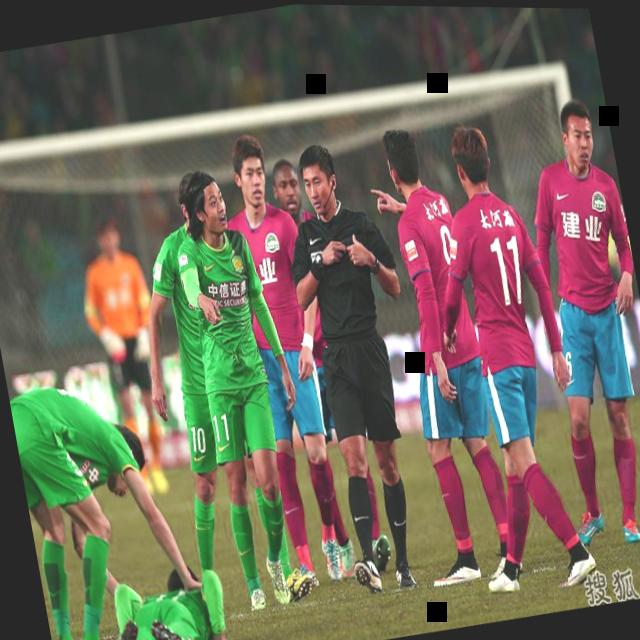Fall-Detected: (84, 546, 243, 640)
